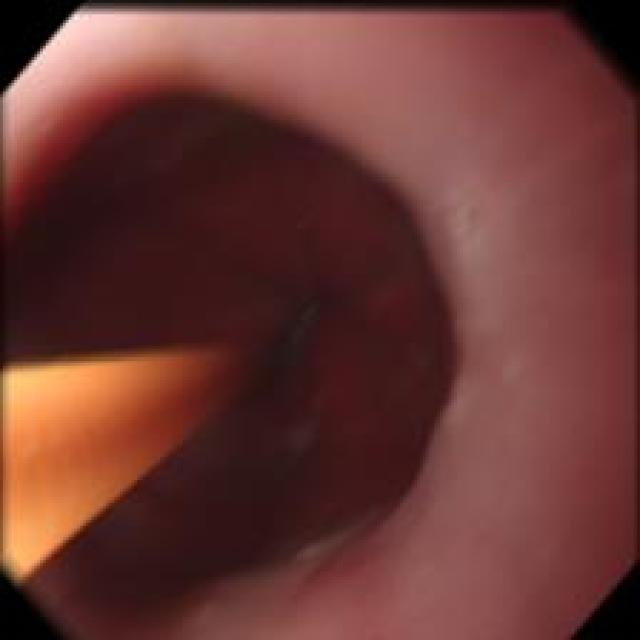blur: (2, 2, 638, 639), (5, 338, 275, 584)
contrast: (0, 109, 458, 626)
instrument: (5, 338, 278, 585)
